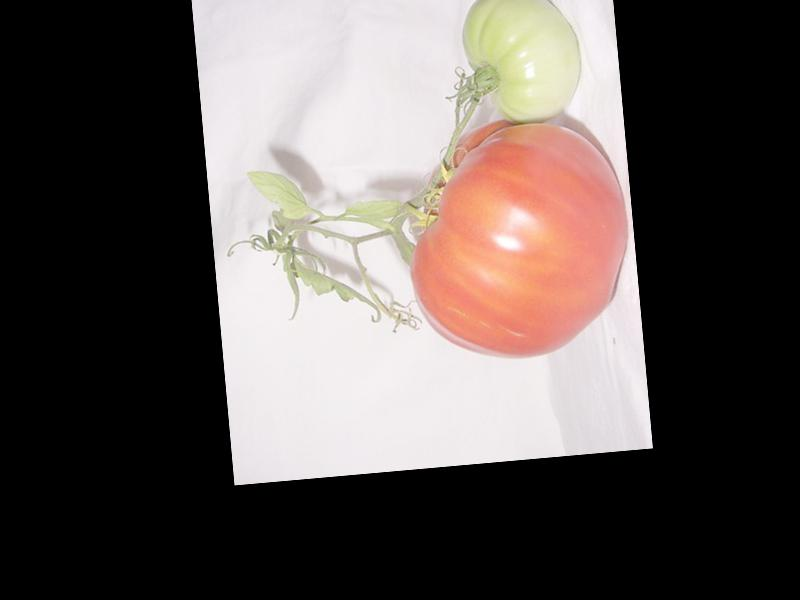Tomato: (397, 109, 636, 367)
